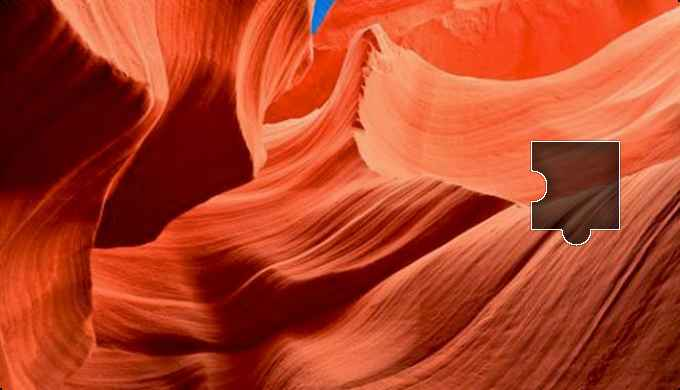gap: (533, 143, 619, 245)
